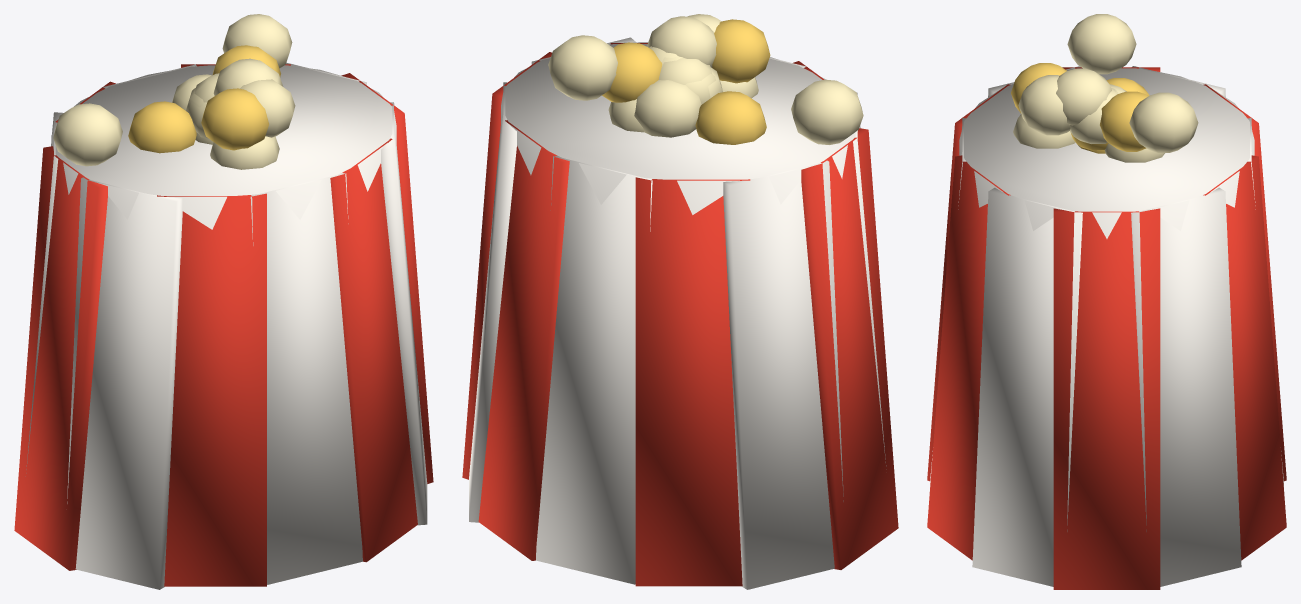
File: tb_mat_popcorn.glb
3 views of the same model, side by side, from view 1: azimuth 30°, elevation 25°; view 2: azimuth 150°, elevation 25°; view 3: azimuth 270°, elevation 25° (orthographic). The views are drawn at different scales.
Visible parts, largest first — view 1: matkropp; view 2: matkropp; view 3: matkropp.
Part boxes in pixels (<box>): matkropp: <box>14,14,433,589</box>; matkropp: <box>462,14,898,589</box>; matkropp: <box>927,14,1286,589</box>.
Bounding box in the file's own units: 0.8252 × 0.9817 × 0.7291.
